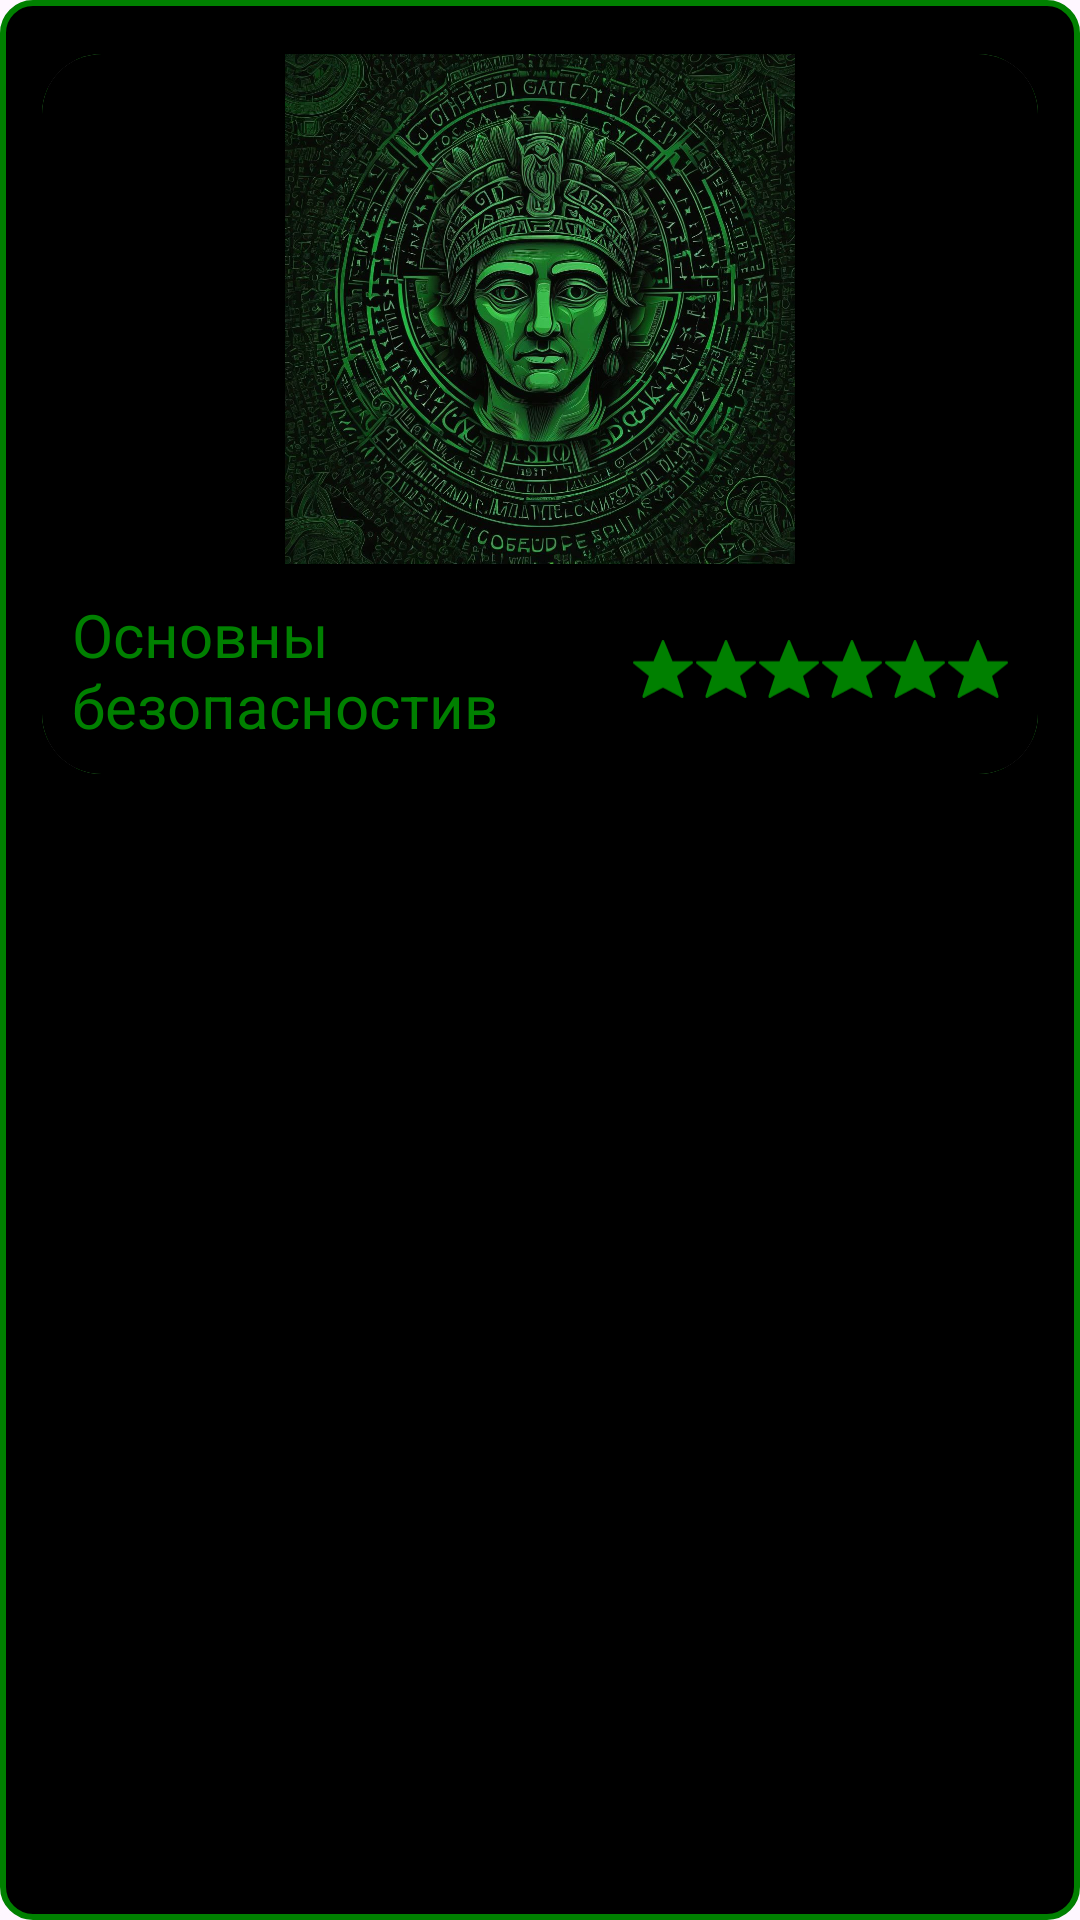

Icon click points for this 1080px×1920px phone screenshot, format (x,y):
Star icon: (663,669), (726,669), (789,669), (852,669), (915,669), (978,669)
